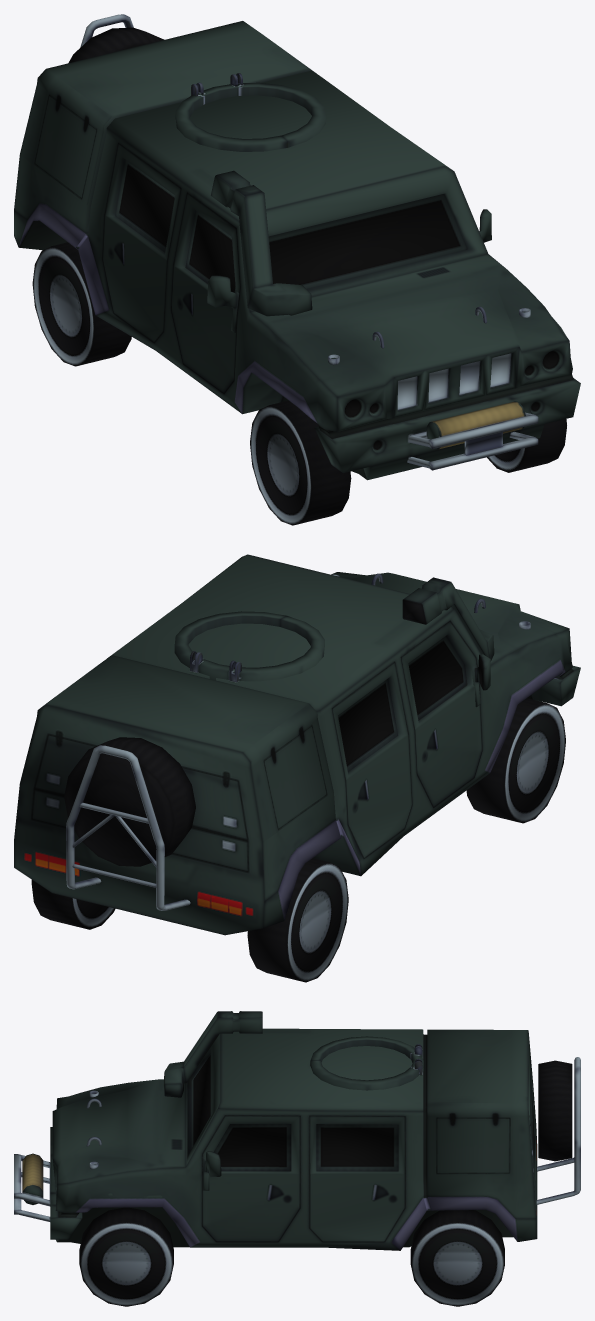
File: Iveco.fbx
3 renders of one model, top to bottom at view 1: azimuth 30°, elevation 25°; view 2: azimuth 150°, elevation 25°; view 3: azimuth 270°, elevation 25°, orthographic. The views are drawn at different scales.
Parts seen in each view (by area): view 1: polySurface4; view 2: polySurface4; view 3: polySurface4.
Part boxes in pixels (x1,y1,x2,y2): polySurface4: [14, 14, 580, 525]; polySurface4: [14, 554, 580, 982]; polySurface4: [14, 1011, 580, 1306].
Bounding box in the file's own units: 2.05 × 1.92 × 4.7.
Materials: 1 (1 with a texture image).
